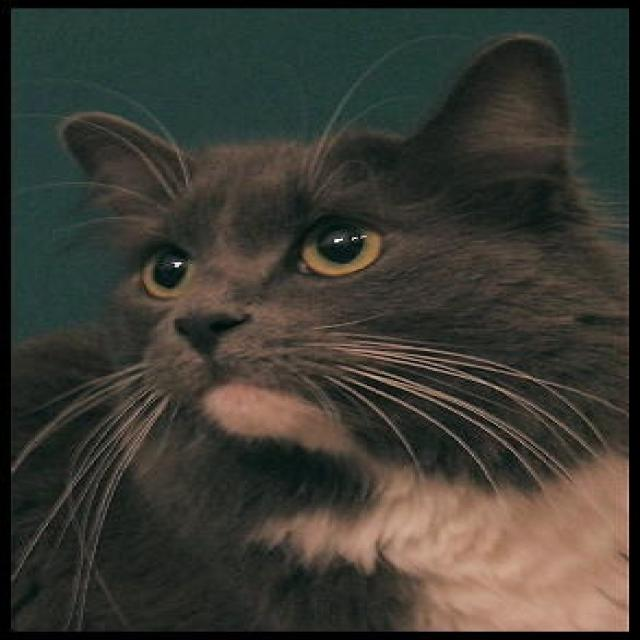cat: (9, 34, 629, 634)
